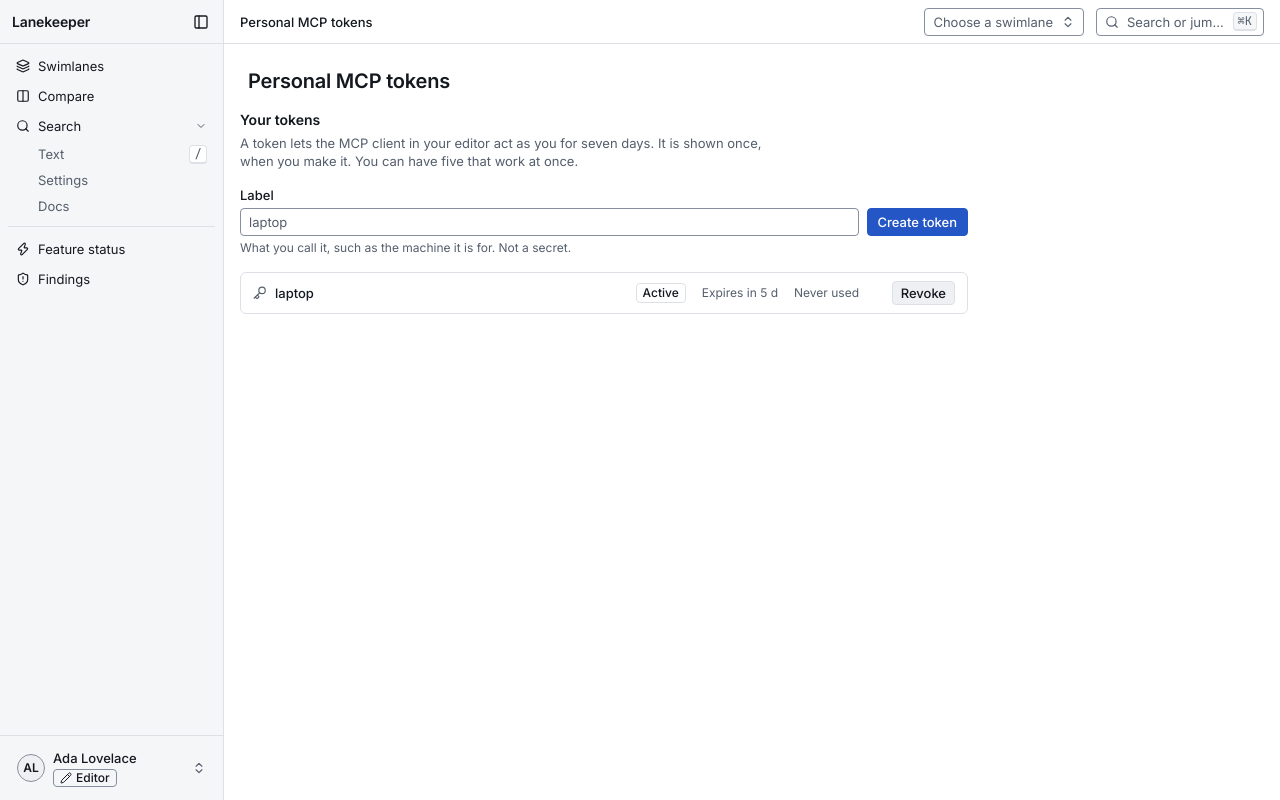
the personal MCP tokens page › shows a token once, and no query or mutation of the app holds it
Type "ci" into the field labelled "Label" at point(549, 222), box [240,208,858,236]
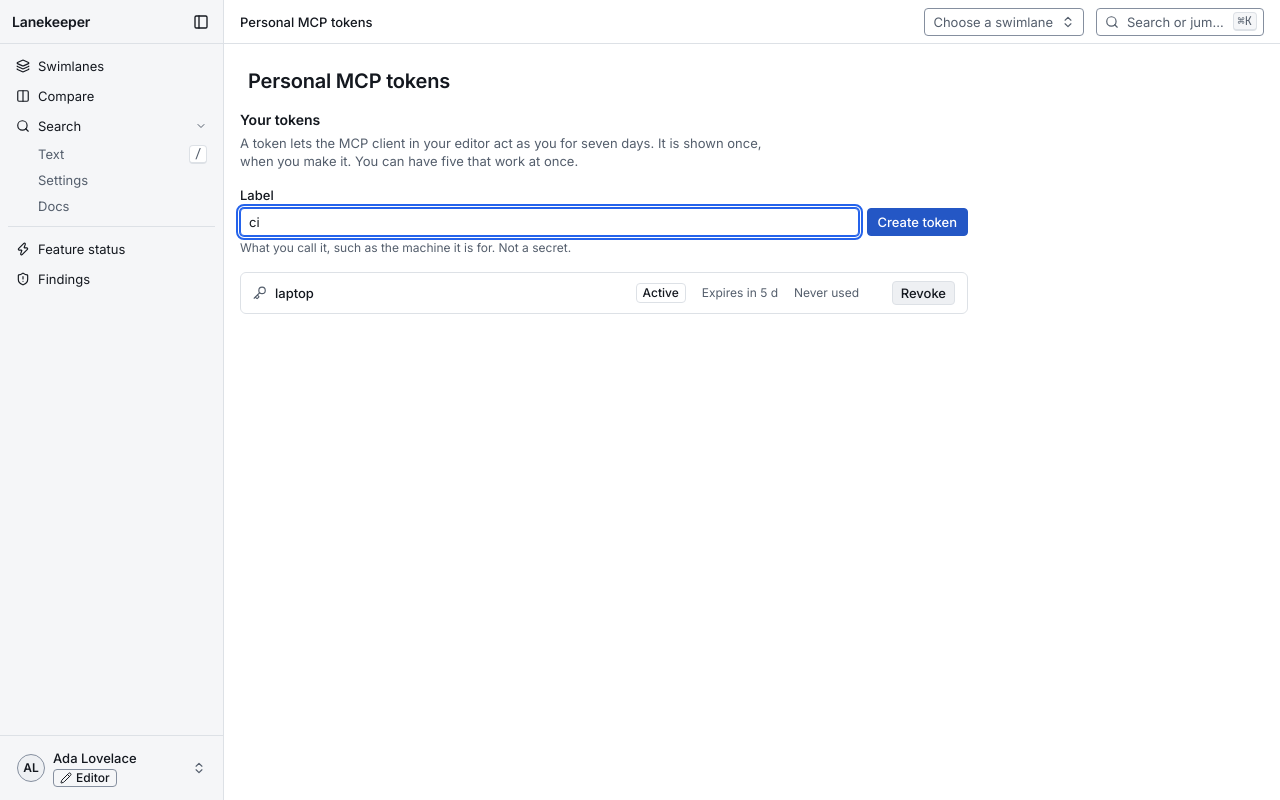
Click the button "Create token" at point(917, 222), box [866,208,968,236]
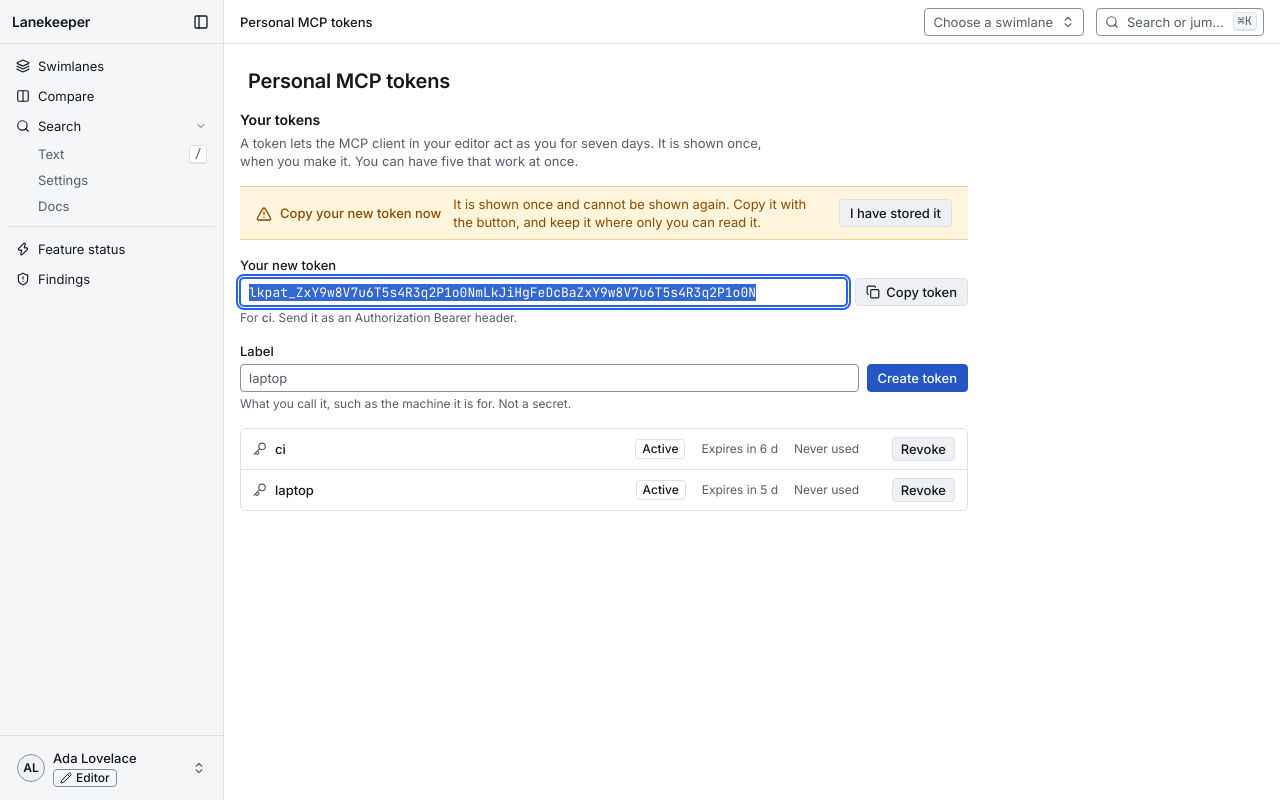
Expected: the field labelled "Your new token" holds "lkpat_ZxY9w8V7u6T5s4R3q2P1o0NmLkJiHgFeDcBaZxY9w8V7u6T5s4R3q2P1o0N", [240,278,847,306]
Click the button "I have stored it" at point(895, 213), box [839,199,952,227]
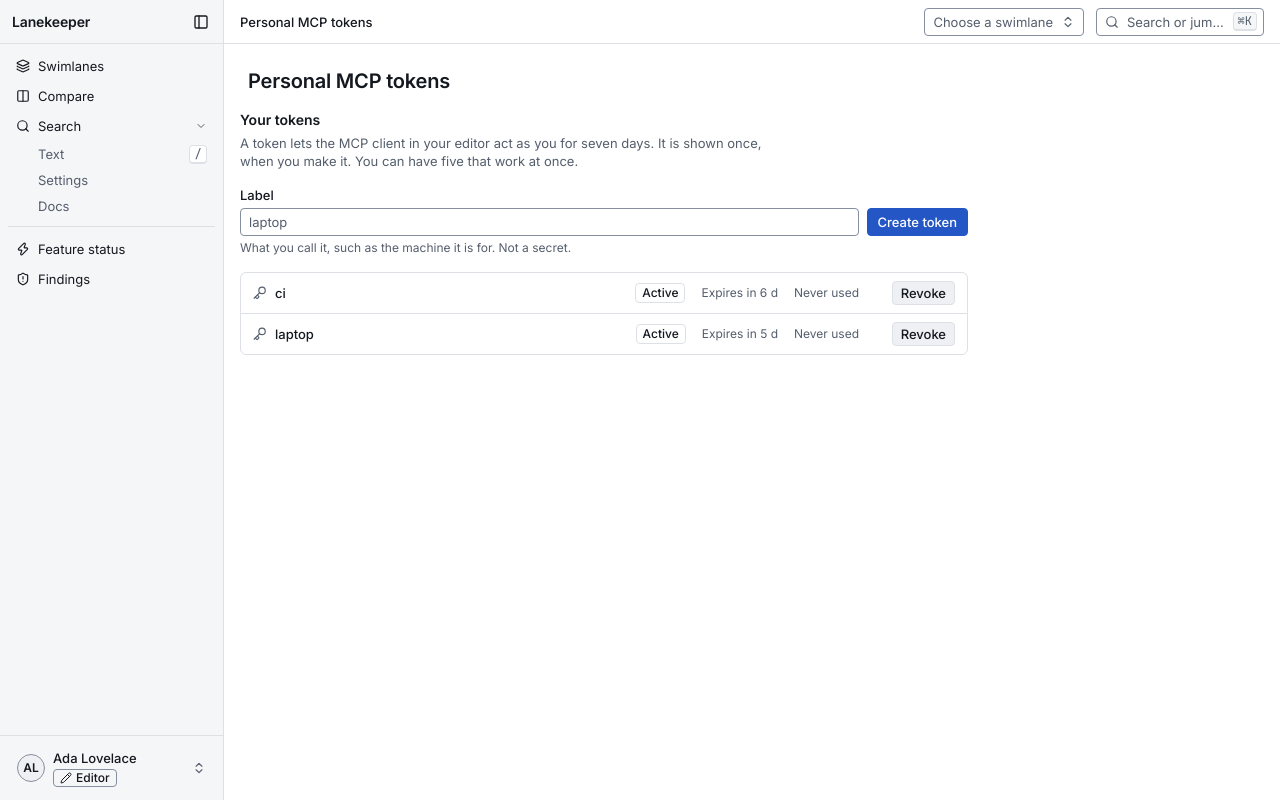
Expected: the text labelled "your new token" is gone
